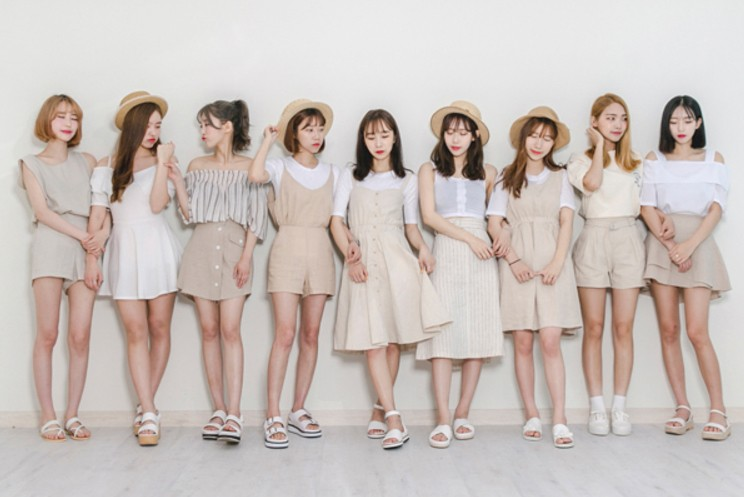people: (93, 88, 190, 454), (637, 82, 732, 446), (260, 97, 345, 452), (494, 110, 579, 446), (572, 87, 646, 449), (334, 108, 410, 450), (182, 94, 253, 448), (29, 93, 101, 442), (418, 107, 490, 450)
